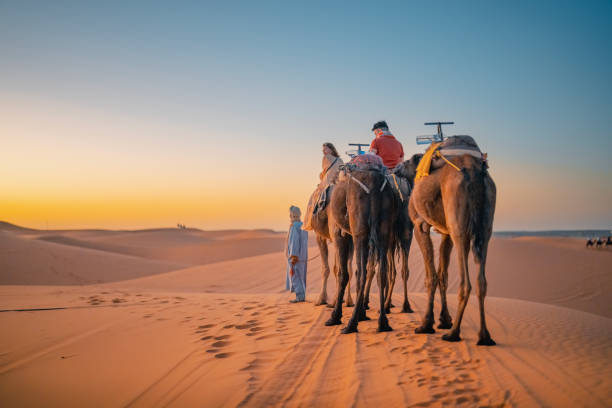animal_footprint: (235, 322, 256, 328), (214, 352, 233, 358), (213, 342, 228, 347), (199, 324, 214, 328), (113, 298, 123, 302), (202, 336, 212, 340), (251, 328, 261, 331), (215, 336, 229, 338)
